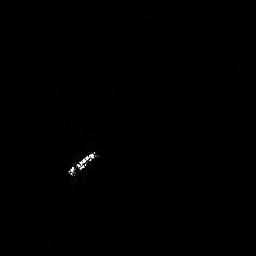ship: (67, 149, 101, 178)
